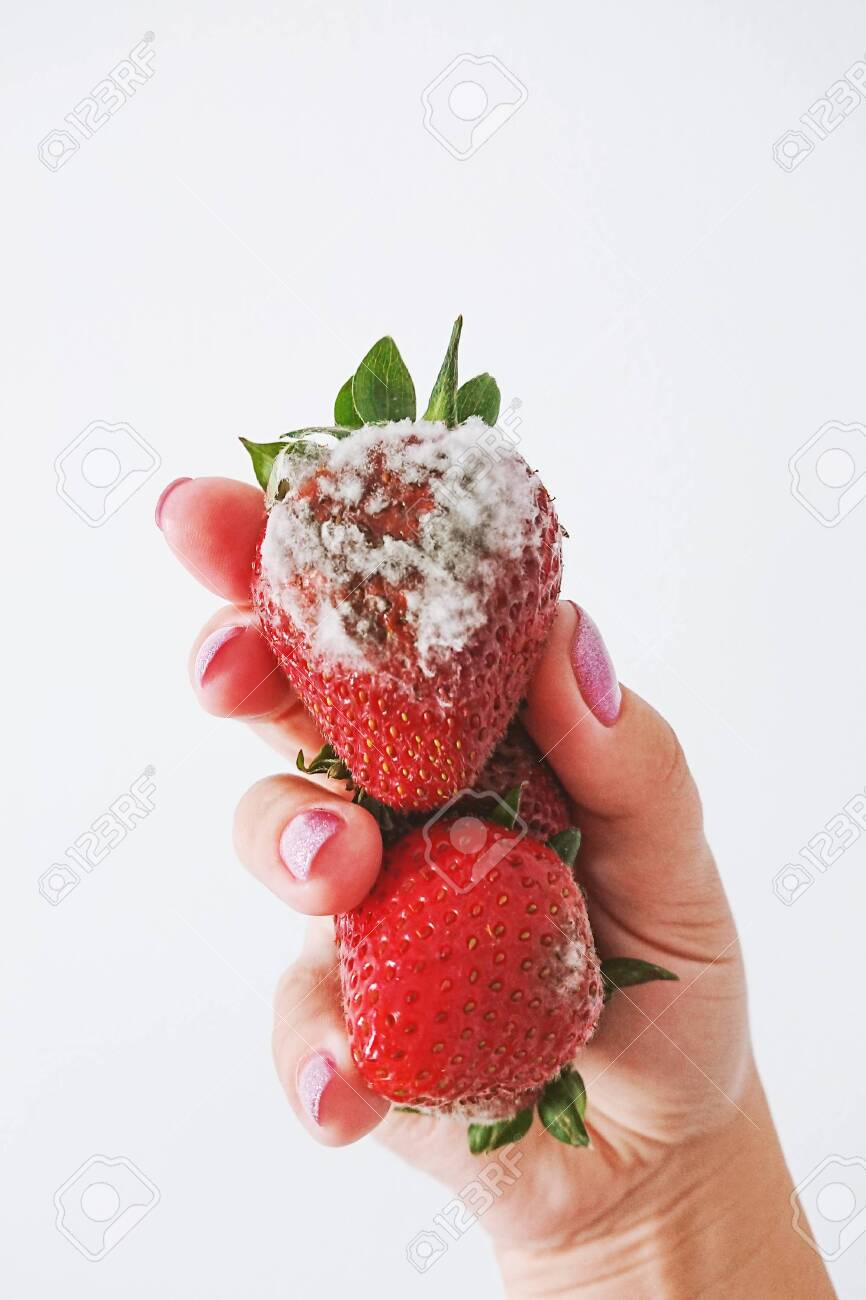damaged_strawberry: (238, 390, 606, 798), (341, 810, 596, 1151)
